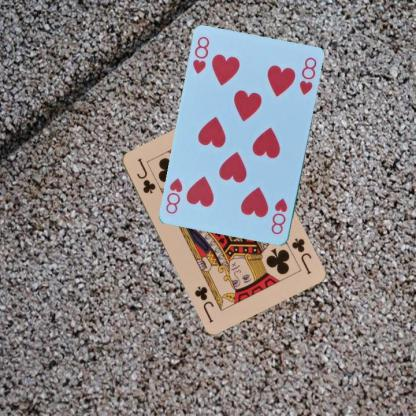8h: (190, 34, 211, 76), (269, 196, 289, 236)
Jc: (288, 235, 313, 276), (134, 155, 156, 195)
